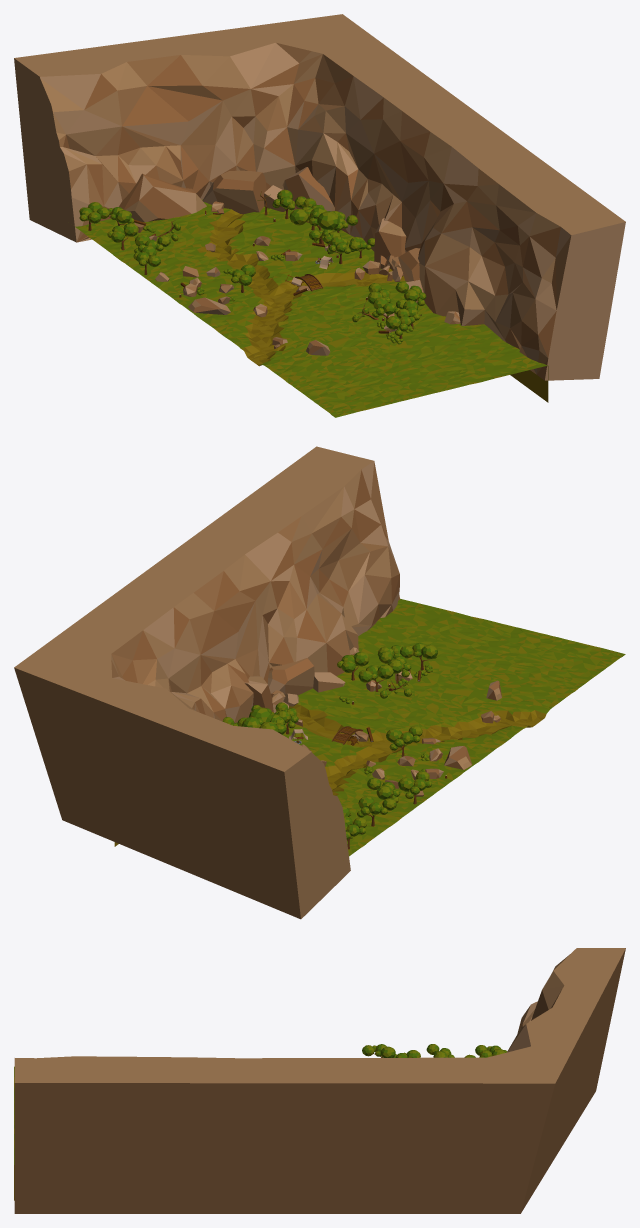
The model's file is camp.fbx.
3 renders of one model, top to bottom at view 1: azimuth 30°, elevation 25°; view 2: azimuth 150°, elevation 25°; view 3: azimuth 270°, elevation 25°, orthographic. The views are drawn at different scales.
Parts seen in each view (by area): view 1: Cube.003, ground.001, Cube_cell.089, tree.joined; view 2: Cube.003, ground.001, tree.joined, Cube_cell.089; view 3: Cube.003, tree.joined.
Boxes of the visible parts, left/top/right/bottom form: Cube.003: left=14, top=14, right=625, bottom=380; ground.001: left=75, top=199, right=548, bottom=417; Cube_cell.089: left=119, top=167, right=460, bottom=355; tree.joined: left=79, top=189, right=426, bottom=338; Cube.003: left=14, top=446, right=399, bottom=919; ground.001: left=114, top=598, right=625, bottom=856; tree.joined: left=222, top=643, right=437, bottom=849; Cube_cell.089: left=245, top=647, right=501, bottom=796; Cube.003: left=14, top=948, right=625, bottom=1213; tree.joined: left=362, top=1044, right=507, bottom=1057.
Size of the model in its own units: 196118 by 54430 by 105029.
